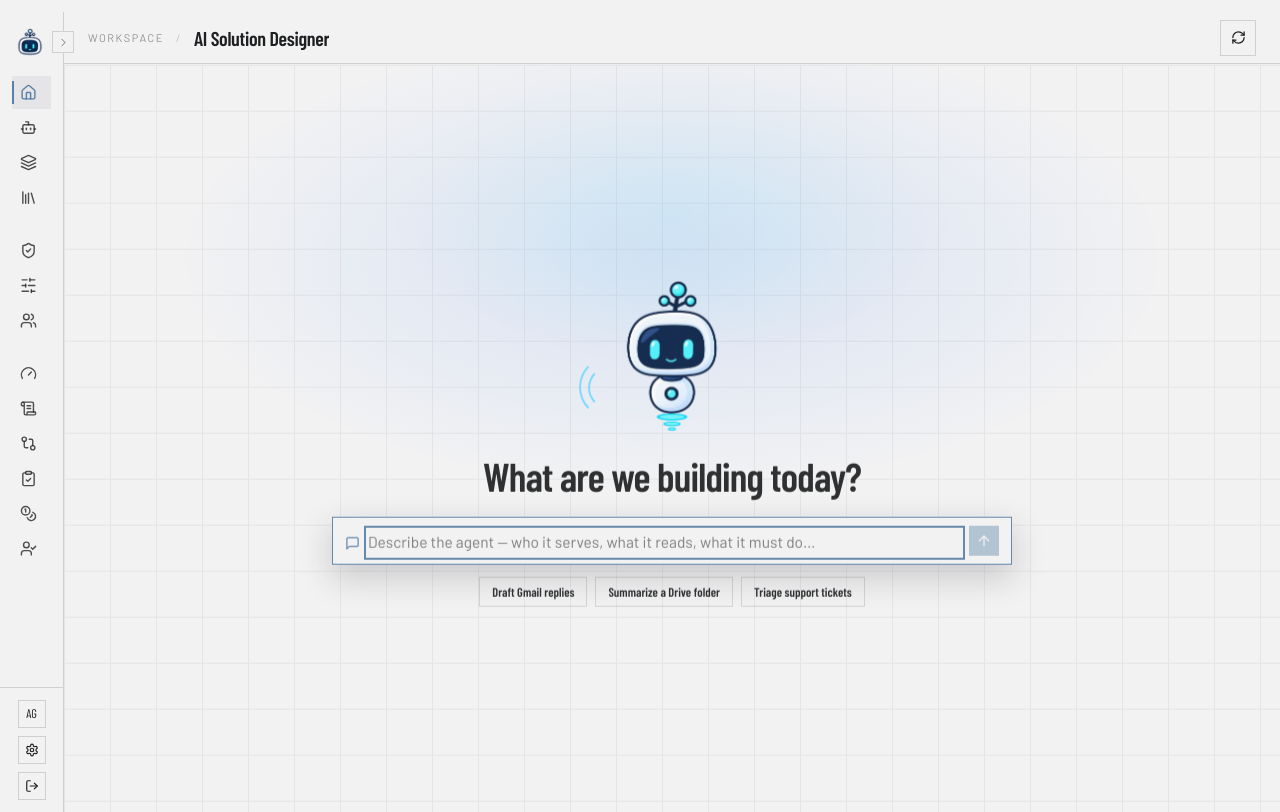
Test: the Admin section for an admin-equivalent role › reaches Accounts in the shell
This screenshot has width=1280, height=812.
Click the button named "Accounts": [32, 320] box [12,304,51,337]
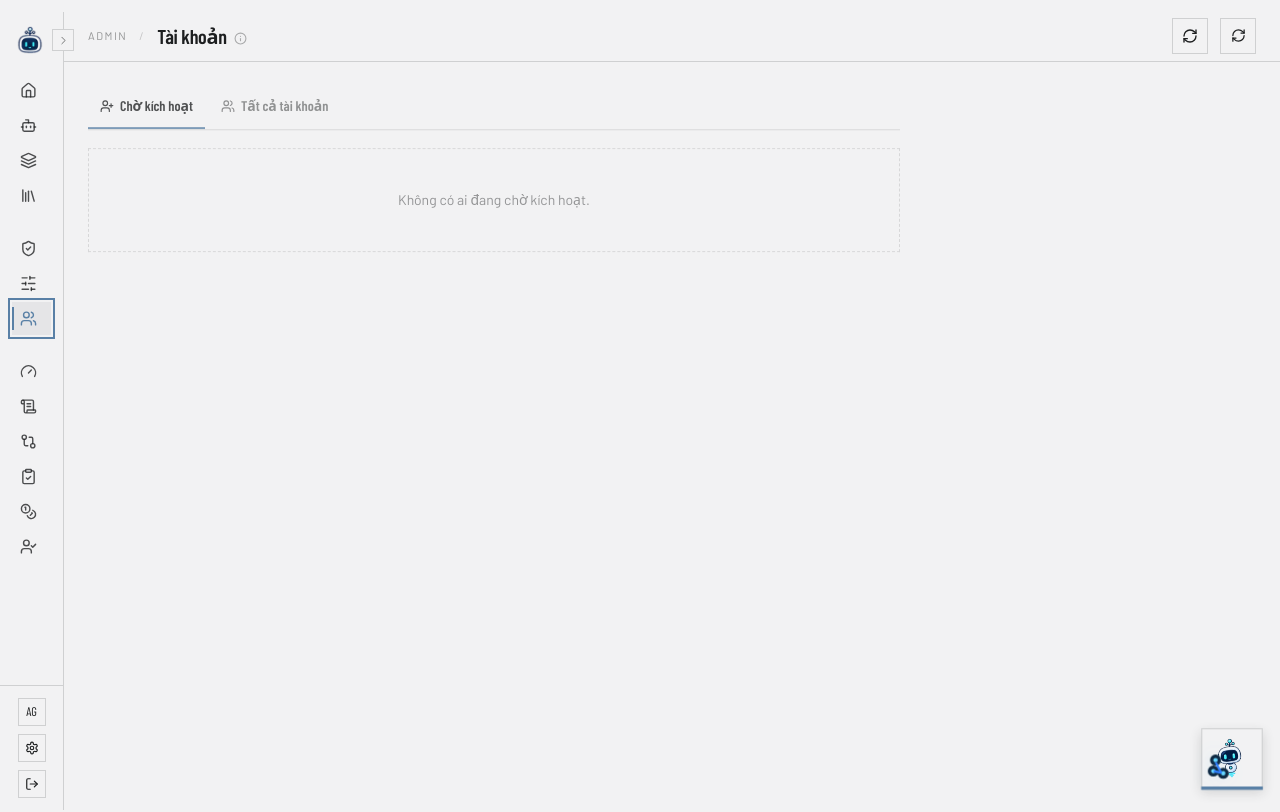
Now the element with class "ab-page" is shown, box [88,84,900,252]
